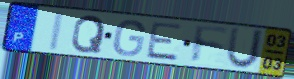E: (144, 21, 185, 63)
F: (190, 23, 231, 65)
G: (111, 19, 147, 58)
I: (46, 10, 68, 53)
Q: (69, 14, 108, 54)
U: (224, 26, 267, 71)
